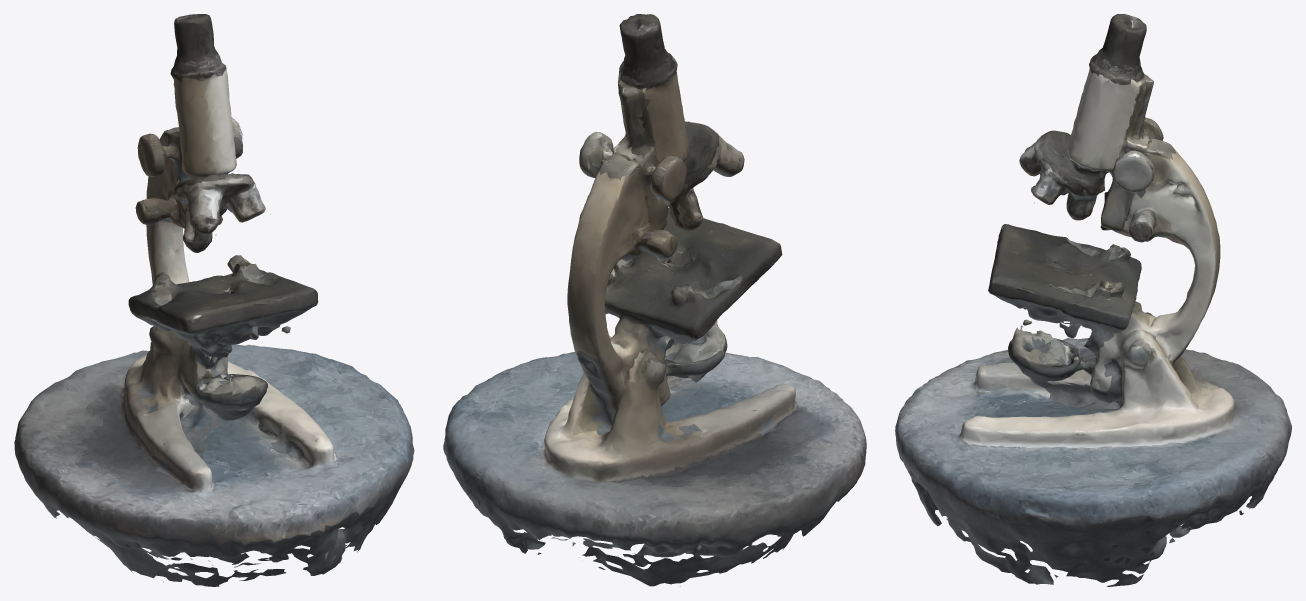
The model's file is mesh_medpoly_MeshLab.obj.
3 views of the same model, side by side, from view 1: azimuth 30°, elevation 25°; view 2: azimuth 150°, elevation 25°; view 3: azimuth 270°, elevation 25° (orthographic). The views are drawn at different scales.
Size of the model in its own units: 1.78 by 2.56 by 1.81.
Materials: 29 (29 with a texture image).
